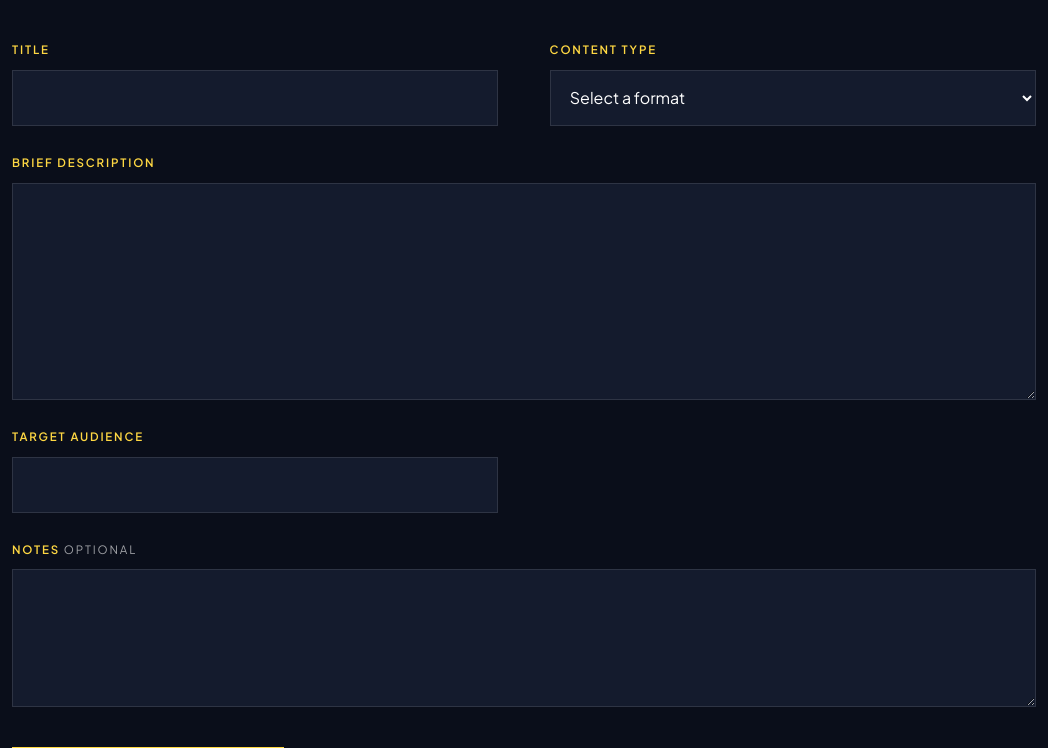
BriefForm › preserves work and blocks an immediate retry when submission is uncertain
The width and height of the screenshot is (1048, 748).
In the field labelled "Title": (255, 98) [12,70,498,126], type "A quiet city wakes"
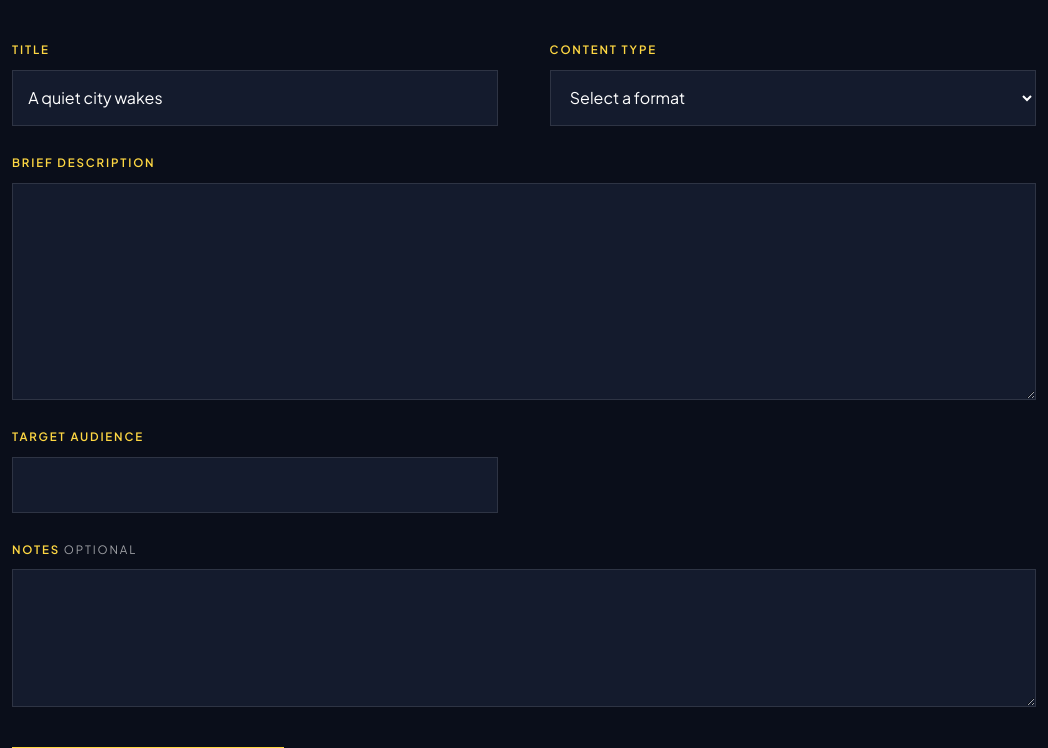
In the text box labelled "Brief description": (524, 291) [12,183,1036,400], type "An animated short about a baker discovering that the city is alive before dawn."
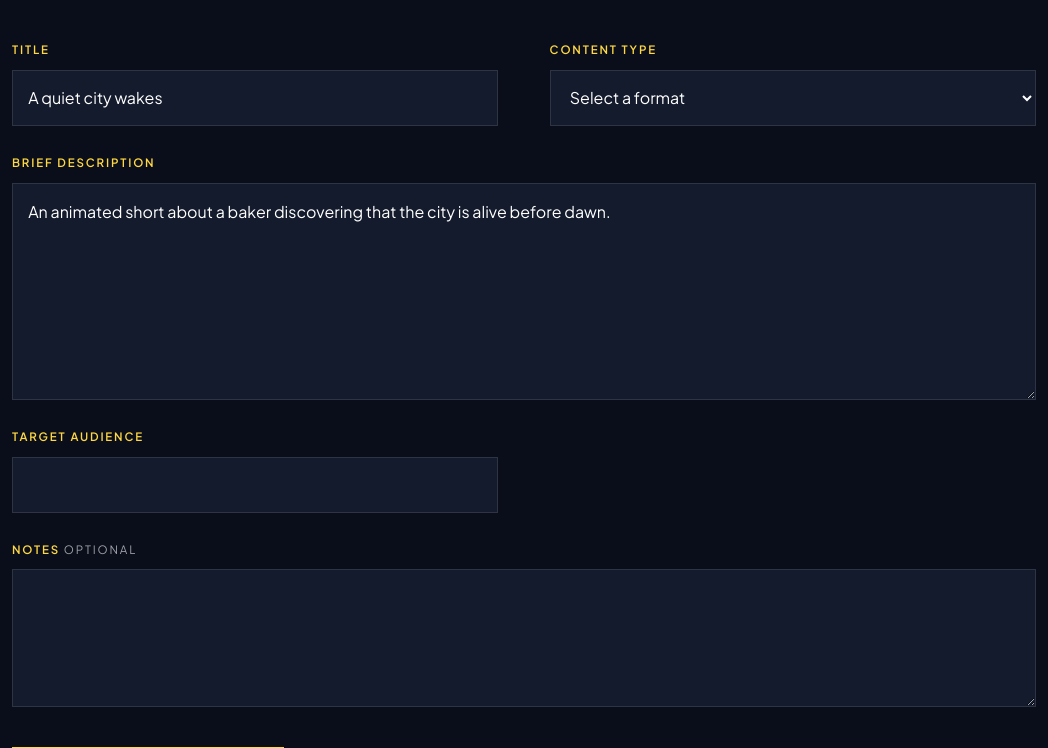
Select "Short film" in the dropdown labelled "Content type": (793, 98) [550,70,1036,126]
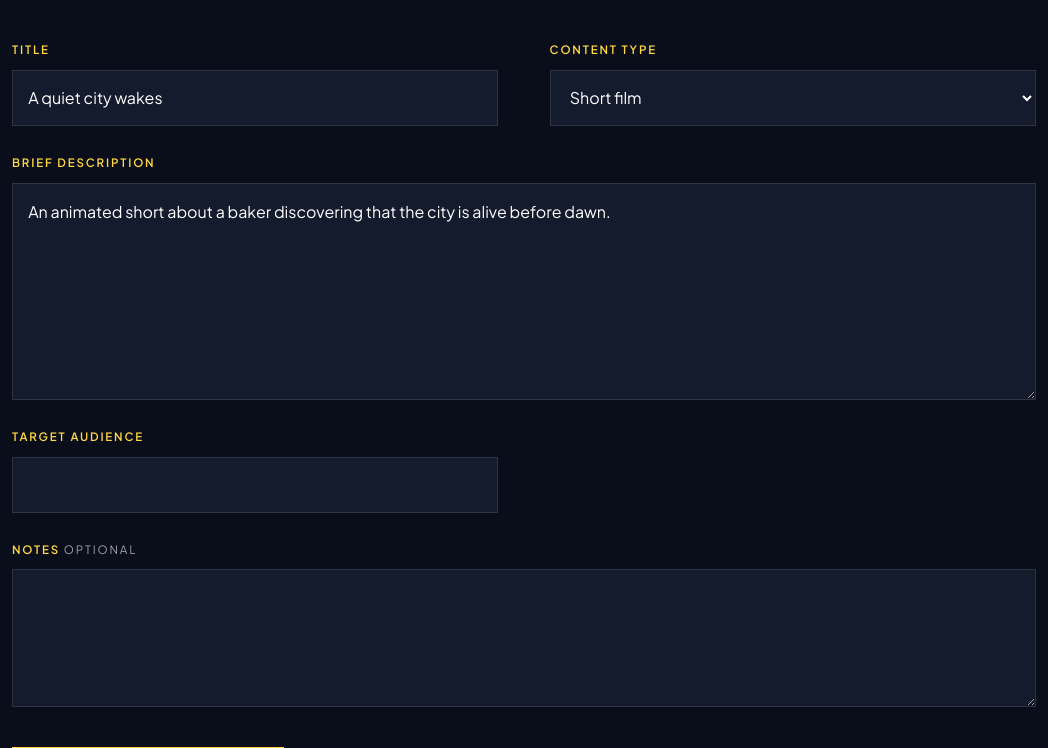
In the field labelled "Target audience": (255, 484) [12,456,498,512], type "Families who enjoy gentle imaginative animation."
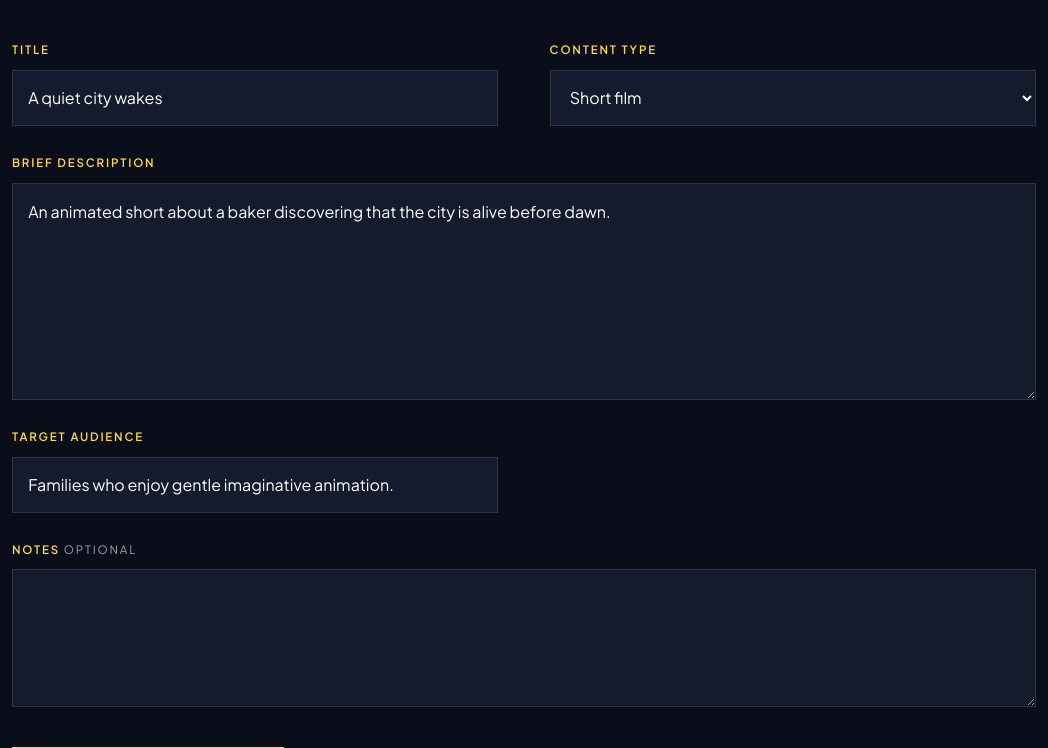
In the text box labelled "Notes Optional": (524, 638) [12,569,1036,707], type "Keep the opening visually calm."
(page scrolled)
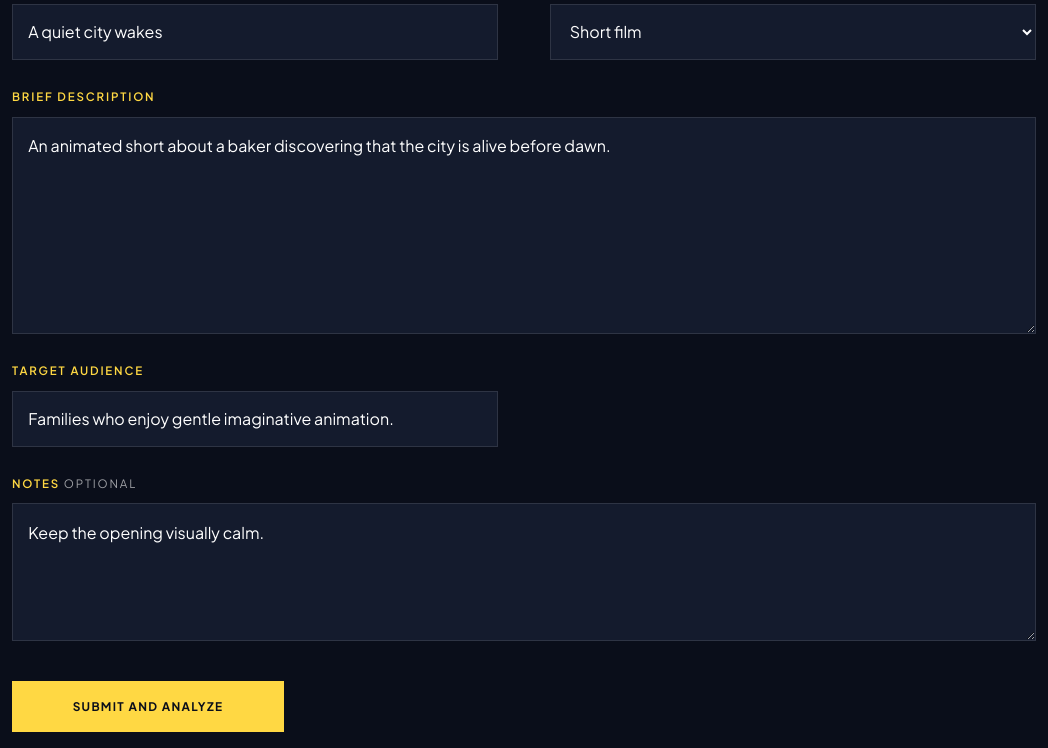
Submit the form named "New creative brief"
(page scrolled)
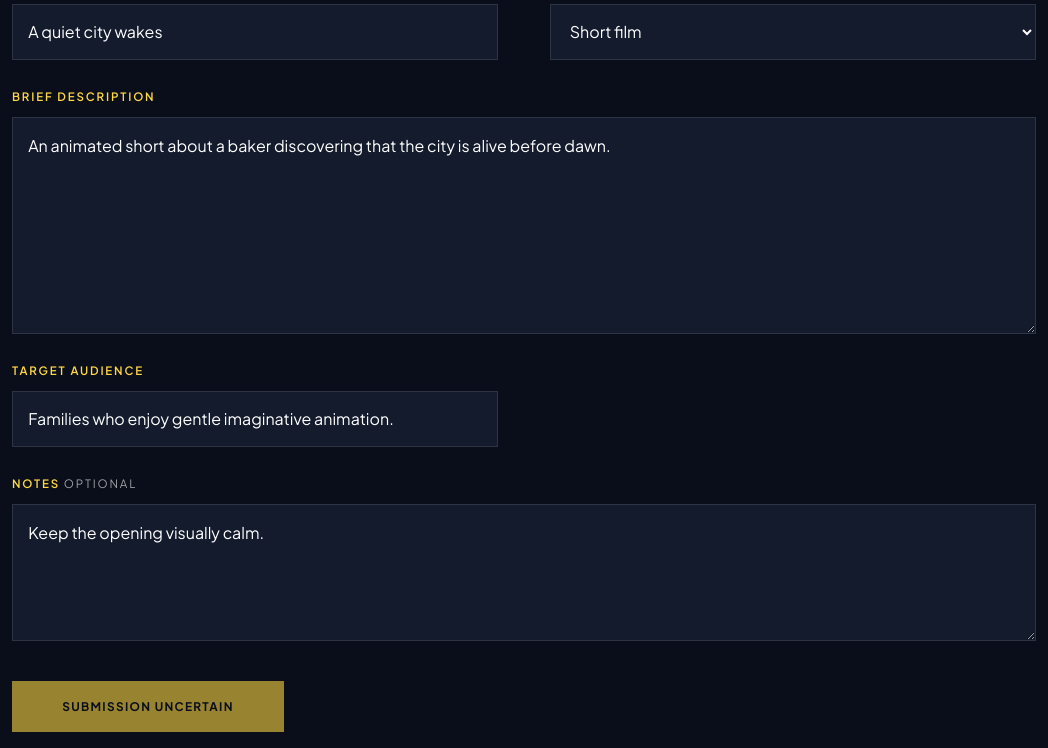
Now the button "Submission uncertain" is disabled, box [12,681,284,732]
